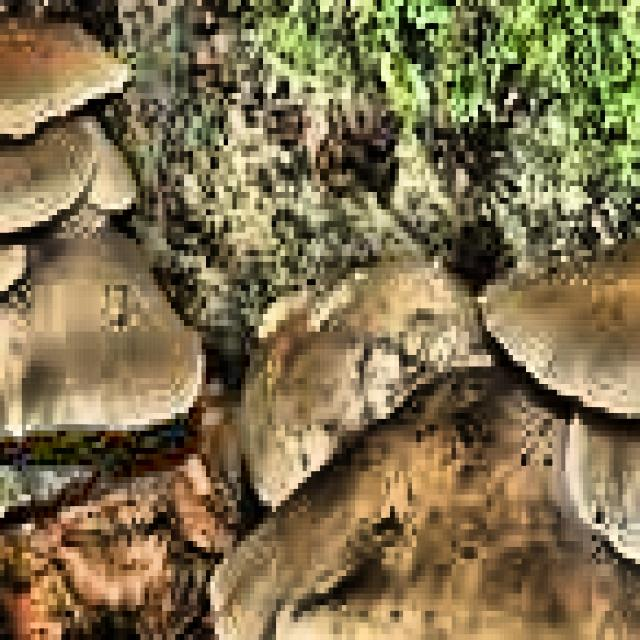Affected: (394, 500, 610, 640), (0, 99, 110, 238), (0, 320, 149, 419), (600, 279, 640, 401)
